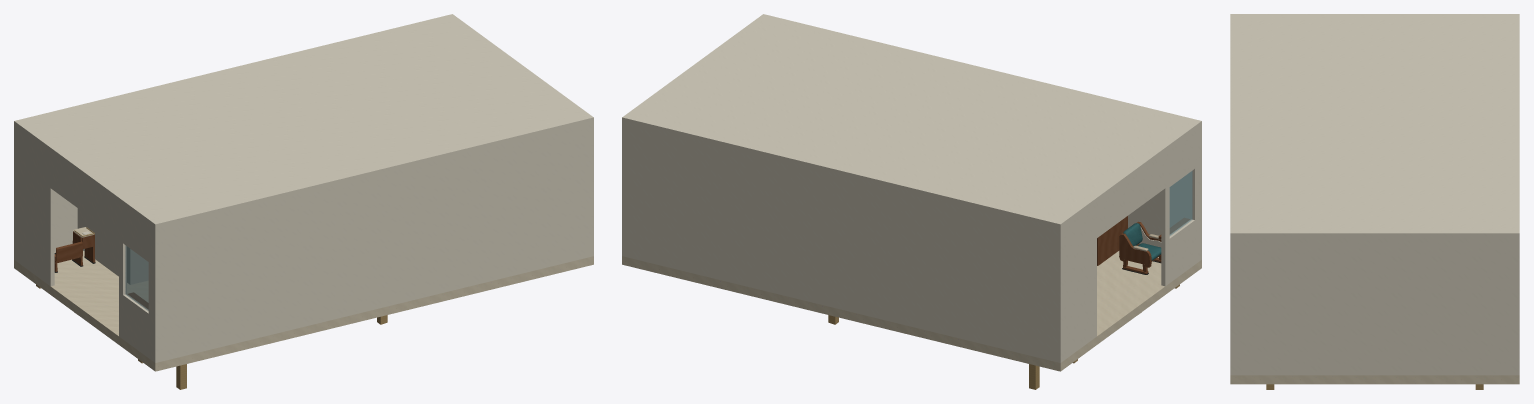
The model's file is NightGardenD15Specialty_524_r001.glb.
3 views of the same model, side by side, from view 1: azimuth 30°, elevation 25°; view 2: azimuth 150°, elevation 25°; view 3: azimuth 270°, elevation 25° (orthographic). The views are drawn at different scales.
Parts seen in each view (by area): view 1: NG524_Ceiling, NG524_NorthSide, NG524_RoomFloor, NG524_EntryShoulderSouth, NG524_EntryHeader, NG524_StreetWindowLower, NG524_WashEntrySide, NG524_SouthSide, NG524_StreetWindowUpper, NG524_ScreenedStreetGlass; view 2: NG524_Ceiling, NG524_SouthSide, NG524_RoomFloor, NG524_EntryShoulderSouth, NG524_EntryHeader, NG524_NorthSide, NG524_StreetWindowLower, NG524_StreetWindowUpper, NG524_ScreenedStreetGlass, NG524_EntryPrivacyDogleg, NG524_StreetReadingChair__DAY_CHAIR_R_swept_walnut_cheek; view 3: NG524_Ceiling, NG524_OpaqueRearBoundary, NG524_RoomFloor, NG524_NorthSide, NG524_SouthSide.
Boxes of the visible parts, bbox=[...] form: NG524_Ceiling: bbox=[14, 14, 593, 229]; NG524_NorthSide: bbox=[153, 123, 593, 362]; NG524_RoomFloor: bbox=[14, 250, 593, 371]; NG524_EntryShoulderSouth: bbox=[16, 128, 54, 286]; NG524_EntryHeader: bbox=[49, 152, 119, 238]; NG524_StreetWindowLower: bbox=[119, 292, 152, 360]; NG524_WashEntrySide: bbox=[77, 208, 133, 284]; NG524_SouthSide: bbox=[14, 127, 77, 260]; NG524_StreetWindowUpper: bbox=[119, 204, 152, 264]; NG524_ScreenedStreetGlass: bbox=[125, 245, 148, 310]; NG524_Ceiling: bbox=[622, 14, 1201, 229]; NG524_SouthSide: bbox=[622, 123, 1062, 362]; NG524_RoomFloor: bbox=[622, 251, 1201, 371]; NG524_EntryShoulderSouth: bbox=[1063, 203, 1096, 360]; NG524_EntryHeader: bbox=[1096, 152, 1166, 237]; NG524_NorthSide: bbox=[1128, 127, 1201, 260]; NG524_StreetWindowLower: bbox=[1161, 217, 1199, 286]; NG524_StreetWindowUpper: bbox=[1163, 128, 1199, 190]; NG524_ScreenedStreetGlass: bbox=[1169, 171, 1192, 235]; NG524_EntryPrivacyDogleg: bbox=[1097, 216, 1127, 265]; NG524_StreetReadingChair__DAY_CHAIR_R_swept_walnut_cheek: bbox=[1119, 233, 1151, 267]; NG524_Ceiling: bbox=[1230, 14, 1519, 238]; NG524_OpaqueRearBoundary: bbox=[1235, 239, 1514, 375]; NG524_RoomFloor: bbox=[1230, 375, 1519, 384]; NG524_NorthSide: bbox=[1230, 239, 1234, 375]; NG524_SouthSide: bbox=[1515, 239, 1519, 375].
Size of the model in its own units: 12.9 by 5.31 by 7.2.
73 materials, 49 textured.
